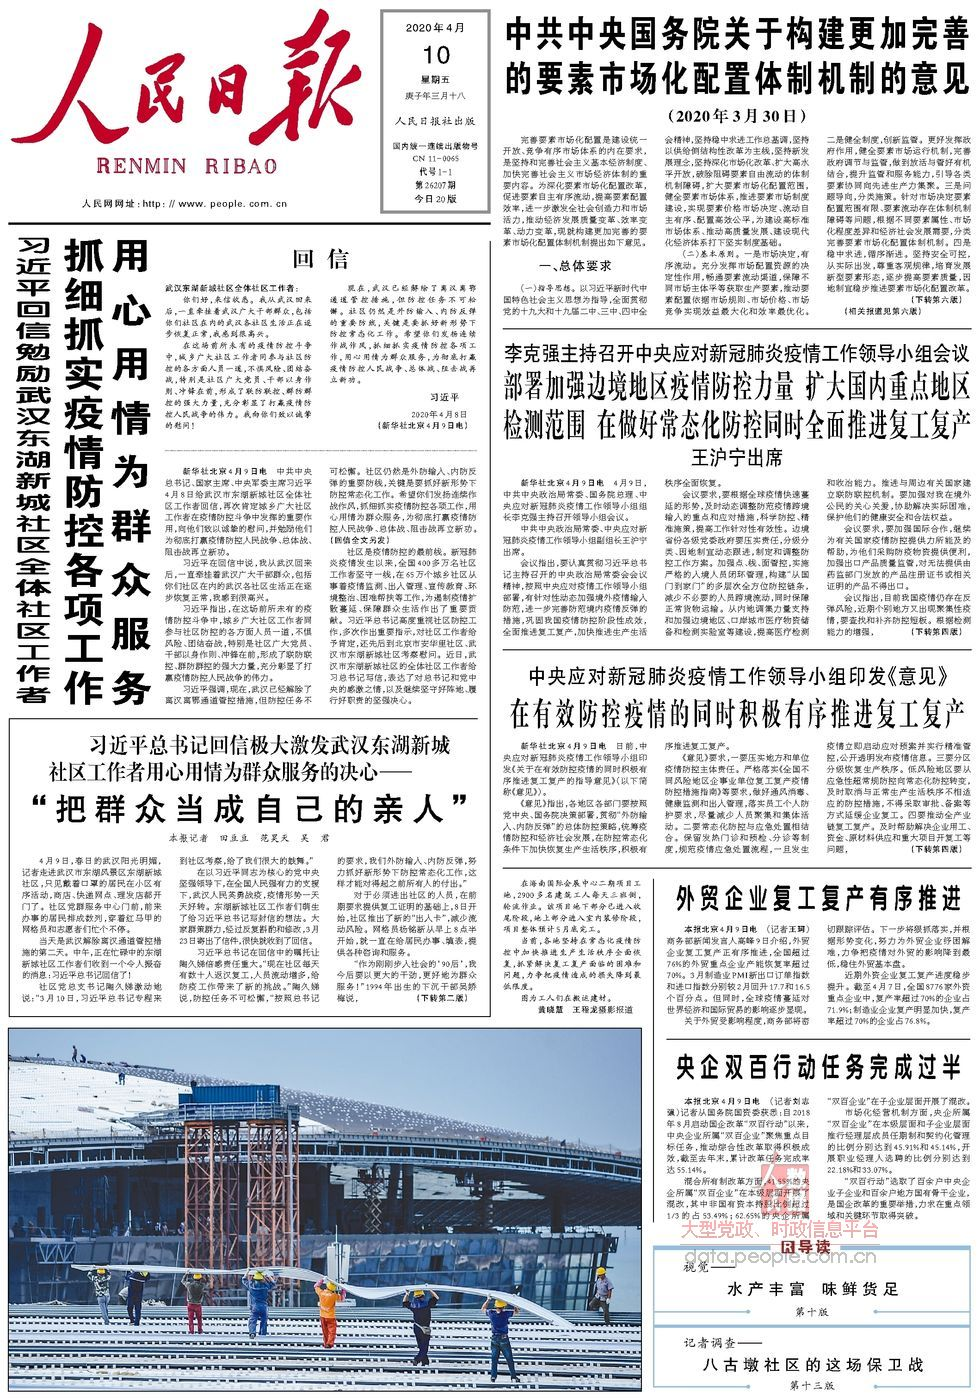pic: (5, 1022, 647, 1397)
